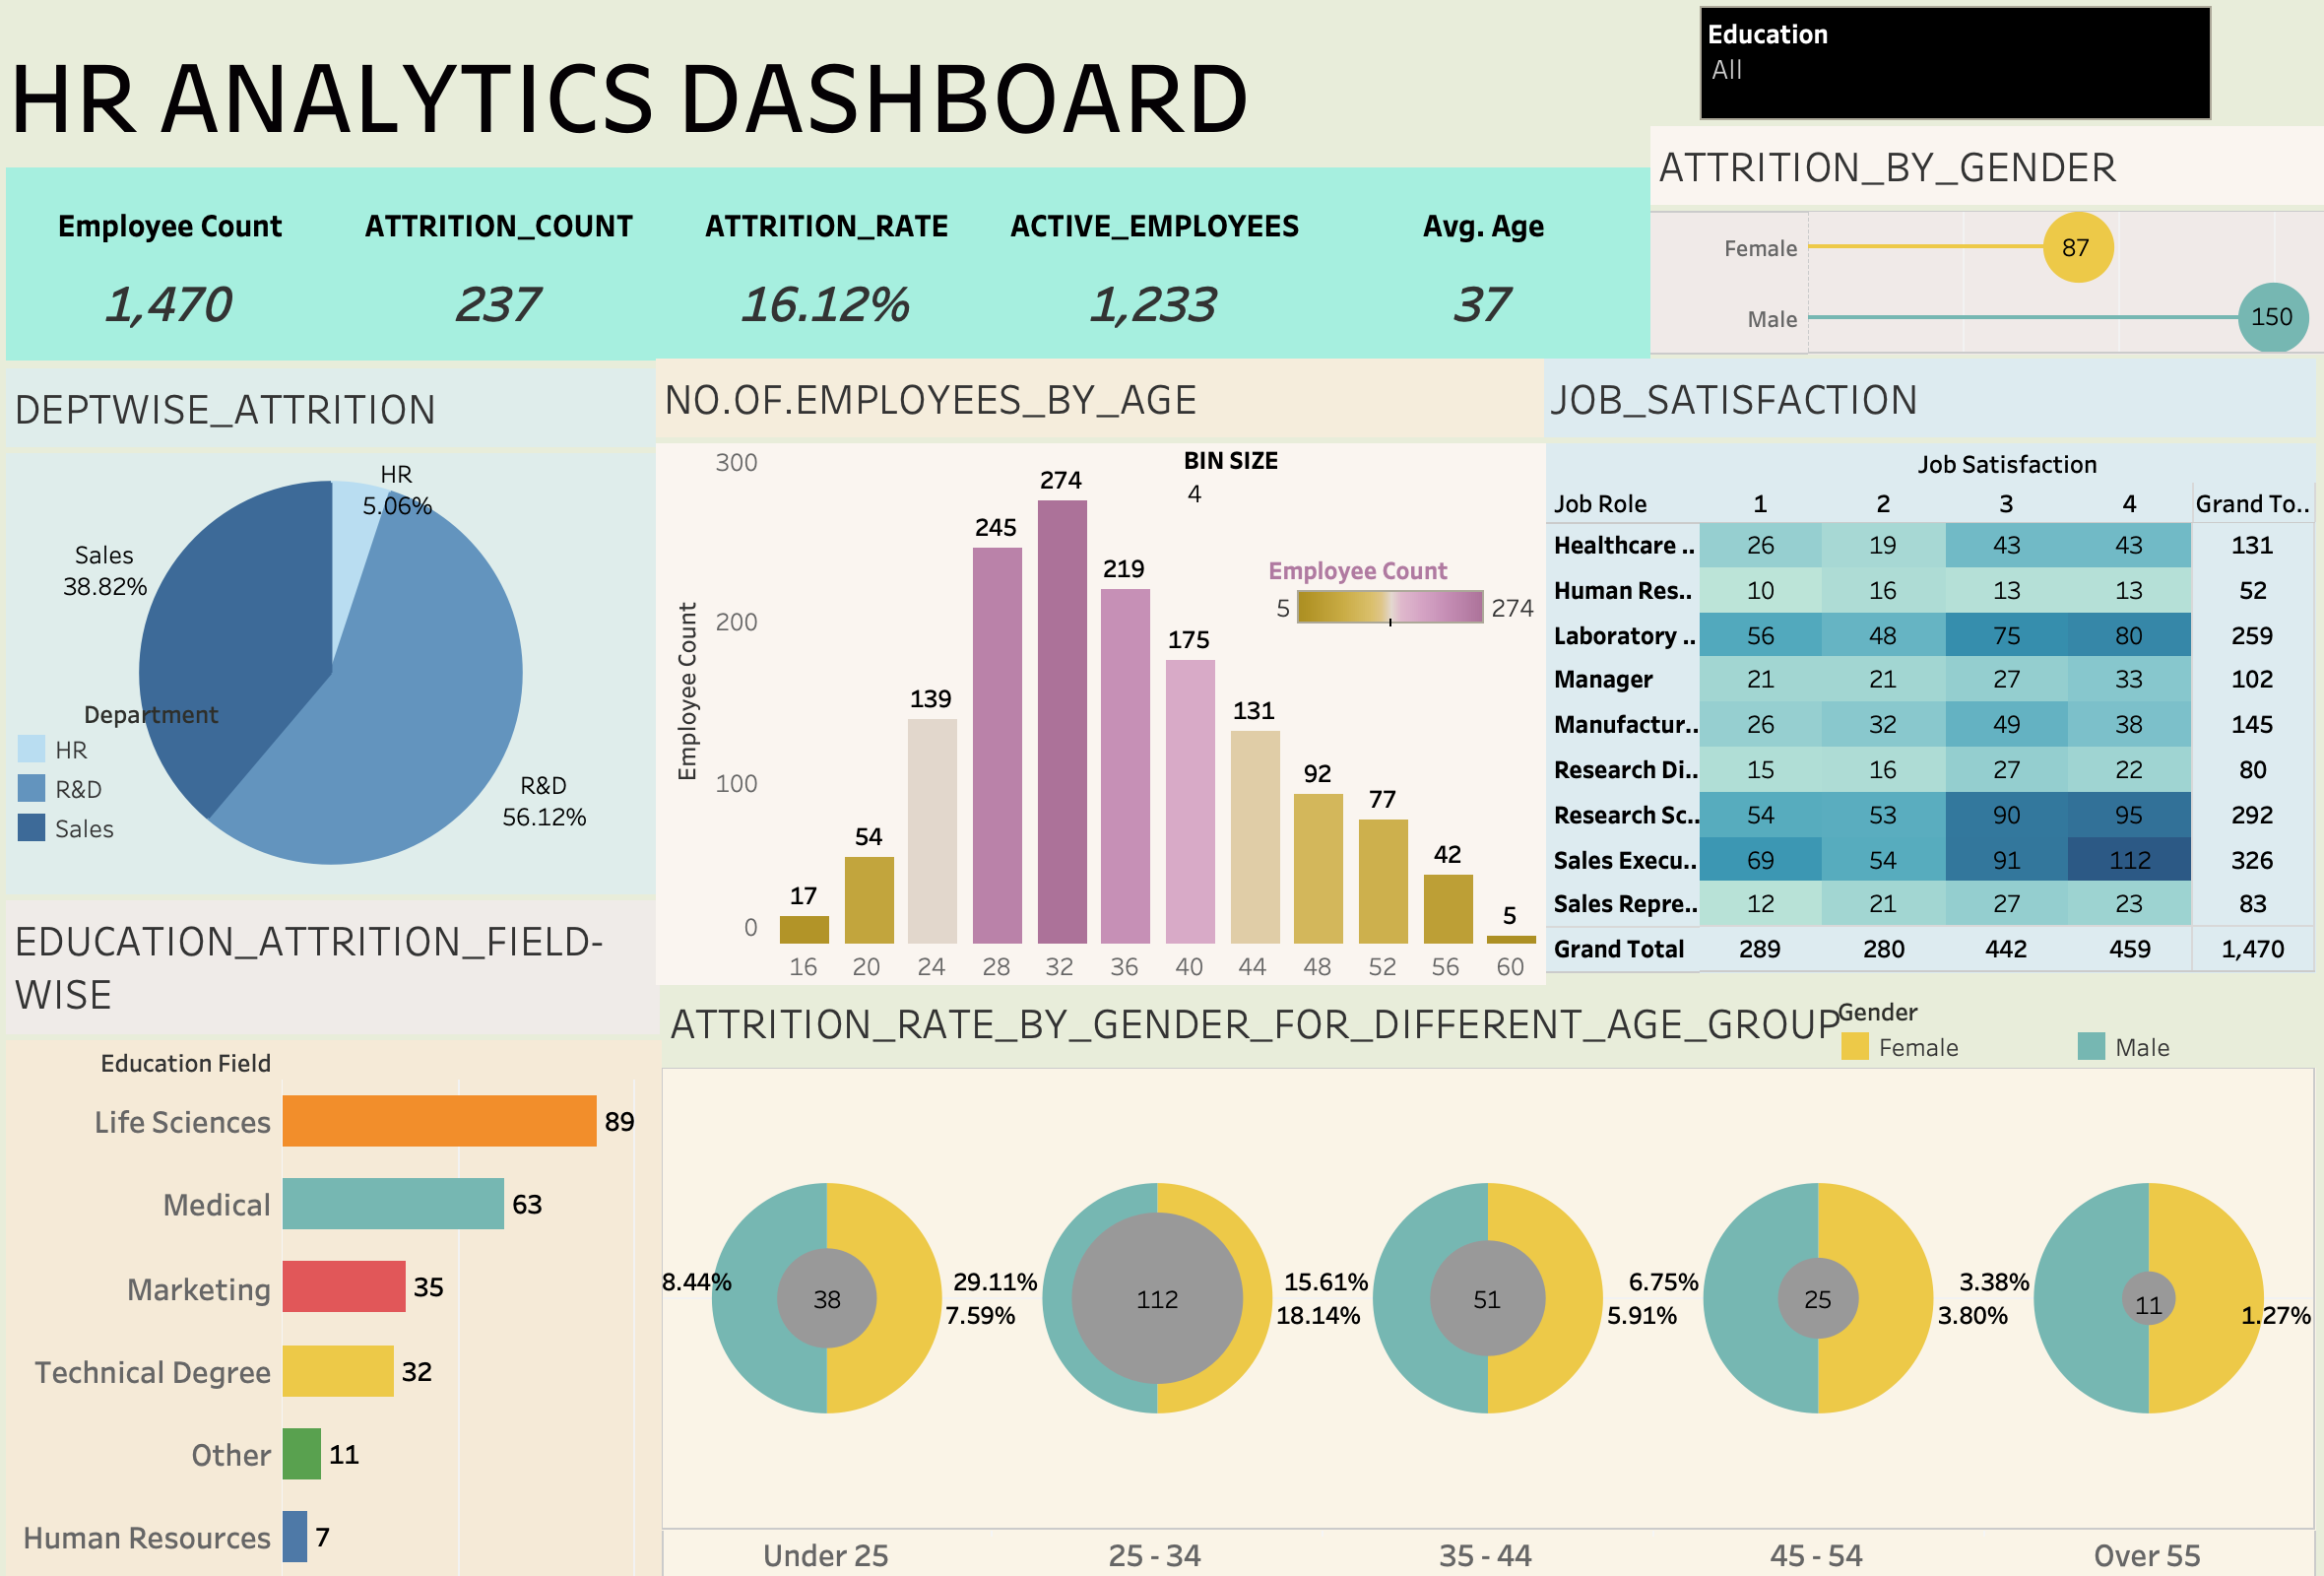

What the dashboard file says about the page in this screenshot:
{"tool":"tableau","page":{"name":"HR ANALYTICS DASHBOARD","canvas":[1180,800],"ordinal":0},"visuals":[{"type":"filter","title":"NO.OF.EMPLOYEES_BY_AGE","param":"[federated.1gjblo91gd840h16t0dvv1rlpf5g].[none:Education:nk]","box":[863,3,260,58]},{"type":"text","box":[1,15,835,66]},{"type":"worksheet","title":"KPI","mark":"Automatic","box":[3,85,834,97]},{"type":"worksheet","title":"NO.OF.EMPLOYEES_BY_AGE","mark":"Automatic","rows":["Employee Count"],"cols":["Age (bin)"],"box":[333,182,451,318]},{"type":"worksheet","title":"JOB_SATISFACTION","mark":"Square","rows":["Job Role"],"cols":["Job Satisfaction"],"box":[783,182,393,312]},{"type":"worksheet","title":"DEPTWISE_ATTRITION","mark":"Pie","box":[3,187,330,266]},{"type":"parameter","param":"[Parameters].[Parameter 1]","box":[601,224,182,45]},{"type":"legend","title":"NO.OF.EMPLOYEES_BY_AGE","param":"[federated.1gjblo91gd840h16t0dvv1rlpf5g].[sum:Employee Count:qk]","box":[644,277,140,76]},{"type":"legend","title":"DEPTWISE_ATTRITION","param":"[federated.1gjblo91gd840h16t0dvv1rlpf5g].[none:Department:nk]","box":[6,352,140,78]},{"type":"worksheet","title":"EDUCATION_ATTRITION_FIELDWISE","mark":"Bar","rows":["Education Field"],"cols":["Calculation_797559378847956992"],"box":[3,457,332,345]},{"type":"worksheet","title":"ATTRITION_RATE_BY_GENDER_FOR_DIFFERENT_AGE_GROUP","mark":"Pie","rows":["Calculation_809944277895806977","Calculation_809944277895806977"],"cols":["CF_age band"],"box":[336,499,840,303]},{"type":"legend","title":"ATTRITION_RATE_BY_GENDER_FOR_DIFFERENT_AGE_GROUP","param":"[federated.1gjblo91gd840h16t0dvv1rlpf5g].[none:Gender:nk]","box":[932,503,247,58]}]}

Visuals, with their boxes in screenshot pixels (x1, y1, x2, y2), scaled from the page's 1180x800 canvas onto the 2324x1576 screenshot:
"NO.OF.EMPLOYEES_BY_AGE" filter: 1700, 6, 2212, 120
text: 2, 30, 1646, 160
"KPI" worksheet: 6, 167, 1648, 359
"NO.OF.EMPLOYEES_BY_AGE" worksheet: 656, 359, 1544, 985
"JOB_SATISFACTION" worksheet (Square marks): 1542, 359, 2316, 973
"DEPTWISE_ATTRITION" worksheet (Pie marks): 6, 368, 656, 892
parameter: 1184, 441, 1542, 530
"NO.OF.EMPLOYEES_BY_AGE" legend: 1268, 546, 1544, 695
"DEPTWISE_ATTRITION" legend: 12, 693, 288, 847
"EDUCATION_ATTRITION_FIELDWISE" worksheet (Bar marks): 6, 900, 660, 1575
"ATTRITION_RATE_BY_GENDER_FOR_DIFFERENT_AGE_GROUP" worksheet (Pie marks): 662, 983, 2316, 1575
"ATTRITION_RATE_BY_GENDER_FOR_DIFFERENT_AGE_GROUP" legend: 1836, 991, 2322, 1105
